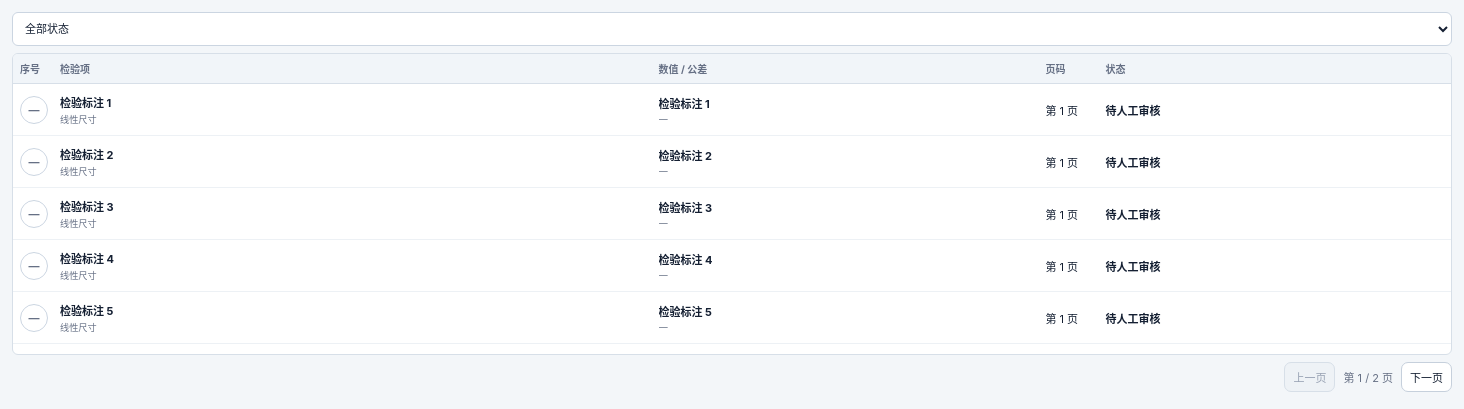
紧凑分页只在 DOM 渲染当前页检验项
Click the button "下一页" at (1426, 377), box [1401,362,1452,392]
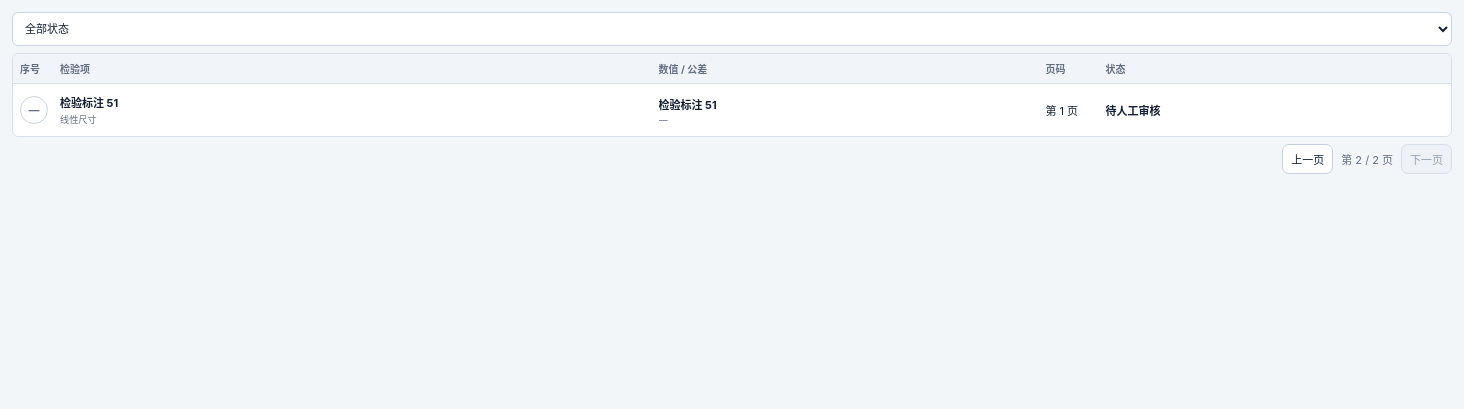
Now the text "第 2 / 2 页" is shown, box [1341,151,1393,167]
Now the row "— 检验标注 51 线性尺寸 检验标注 51 — 第 1 页 待人工审核" is shown, box [20,96,1160,125]
